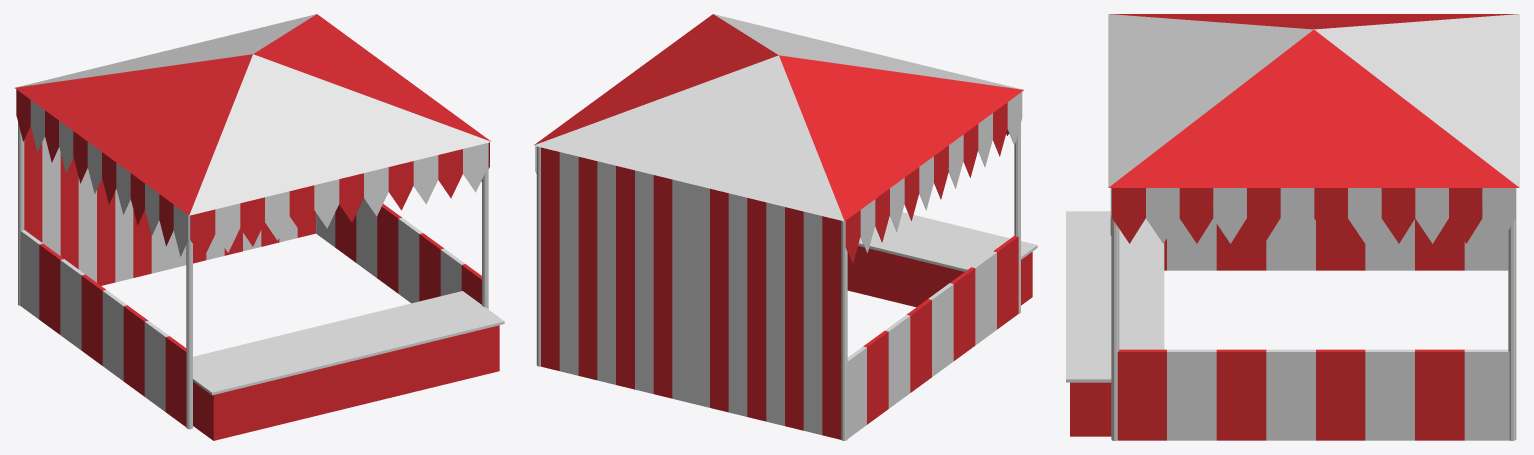
The model's file is carnivaltent.fbx.
3 views of the same model, side by side, from view 1: azimuth 30°, elevation 25°; view 2: azimuth 150°, elevation 25°; view 3: azimuth 270°, elevation 25° (orthographic). The views are drawn at different scales.
Visible parts, largest first — view 1: Cone.001, Cube.042, Cube.002, Cube.044, Cube, Cube.001, Cylinder, Cylinder.001, Cube.008, Cube.046, Cube.052, Cube.053 (+21 smaller); view 2: Cube.002, Cone.001, Cube.044, Cube.042, Cube, Cylinder.002, Cylinder.007, Cylinder, Cube.075, Cube.081, Cube.035, Cube.031 (+8 smaller); view 3: Cone.001, Cube.001, Cube.044, Cube, Cube.042, Cylinder.007, Cylinder.001, Cube.058, Cube.061, Cube.025, Cube.027, Cube.028 (+7 smaller).
Part boxes in pixels (x1,y1,x2,y2): Cone.001: (15,14,491,215); Cube.042: (193,325,499,440); Cube.002: (24,126,315,285); Cube.044: (20,230,186,426); Cube: (192,291,504,395); Cube.001: (316,198,481,304); Cylinder: (186,215,192,429); Cylinder.001: (482,143,488,309); Cube.008: (388,161,413,210); Cube.046: (314,179,339,228); Cube.052: (190,209,215,258); Cube.053: (215,203,240,252); Cube.002: (541,147,840,439); Cone.001: (533,14,1023,221); Cube.044: (847,236,1018,438); Cube.042: (847,246,1032,307); Cube: (858,212,1037,271); Cylinder.002: (841,220,847,440); Cylinder.007: (536,146,540,366); Cylinder: (1014,123,1020,313); Cube.075: (860,199,875,253); Cube.081: (845,210,860,263); Cube.035: (1007,92,1022,145); Cube.031: (904,167,919,220); Cone.001: (1108,14,1519,187); Cube.001: (1117,349,1509,440); Cube.044: (1164,218,1508,270); Cube: (1066,211,1164,382); Cube.042: (1070,382,1111,436); Cylinder.007: (1508,188,1516,440); Cylinder.001: (1111,188,1119,440); Cube.058: (1280,188,1314,243); Cube.061: (1381,188,1415,243); Cube.025: (1179,188,1213,243); Cube.027: (1246,188,1280,243); Cube.028: (1482,188,1515,243).
Bounding box in the file's own units: 414 × 361 × 456.
